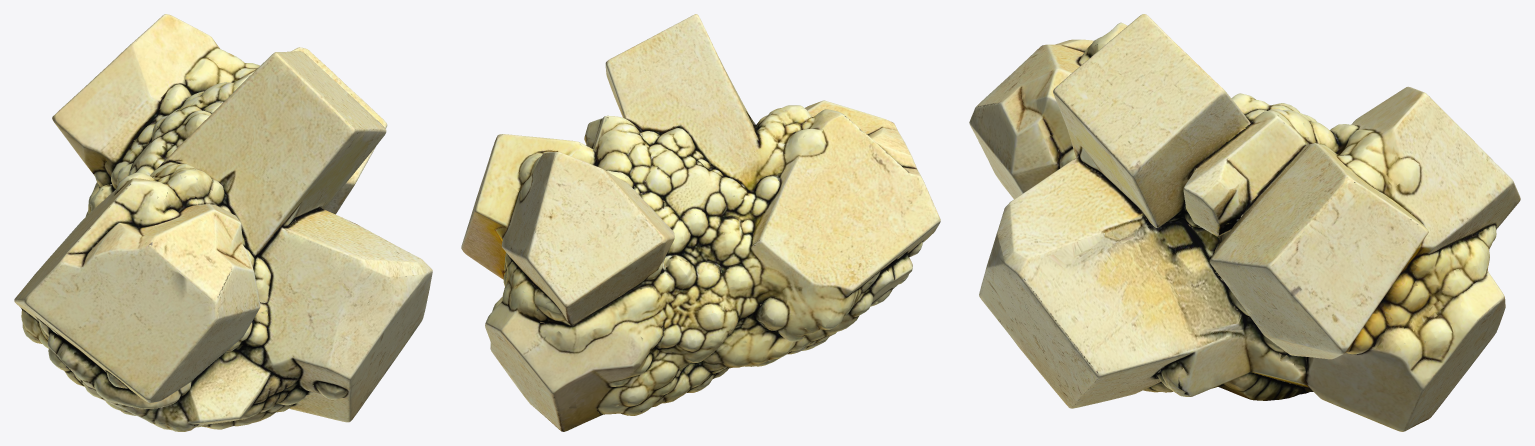
Rendered from pyrite.glb.
3 renders of one model, left to right at view 1: azimuth 30°, elevation 25°; view 2: azimuth 150°, elevation 25°; view 3: azimuth 270°, elevation 25°, orthographic. The views are drawn at different scales.
Visible parts, largest first — view 1: pyrite; view 2: pyrite; view 3: pyrite.
Boxes of the visible parts, box(x1,y1,x2,y2) form: pyrite: box(14, 14, 432, 431); pyrite: box(461, 14, 940, 431); pyrite: box(969, 14, 1520, 431).
Size of the model in its own units: 0.9617 by 0.7943 by 1.
1 material, 1 textured.
